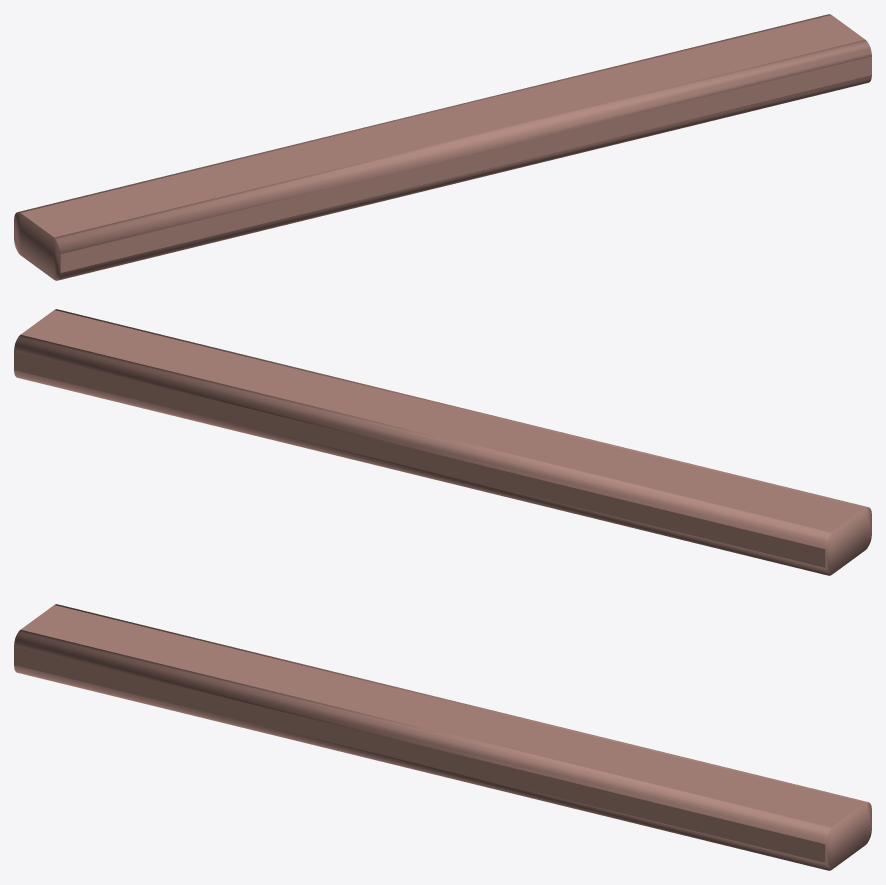
The model's file is Ridge.glb.
3 renders of one model, top to bottom at view 1: azimuth 30°, elevation 25°; view 2: azimuth 150°, elevation 25°; view 3: azimuth 330°, elevation 25°, orthographic.
Parts seen in each view (by area): view 1: PBK_ridge.003; view 2: PBK_ridge.003; view 3: PBK_ridge.003.
Boxes of the visible parts, x1=… form: PBK_ridge.003: x1=14, y1=14, x2=871, y2=280; PBK_ridge.003: x1=14, y1=309, x2=871, y2=575; PBK_ridge.003: x1=14, y1=604, x2=871, y2=870.
Bounding box in the file's own units: 2 × 0.1 × 0.2.
